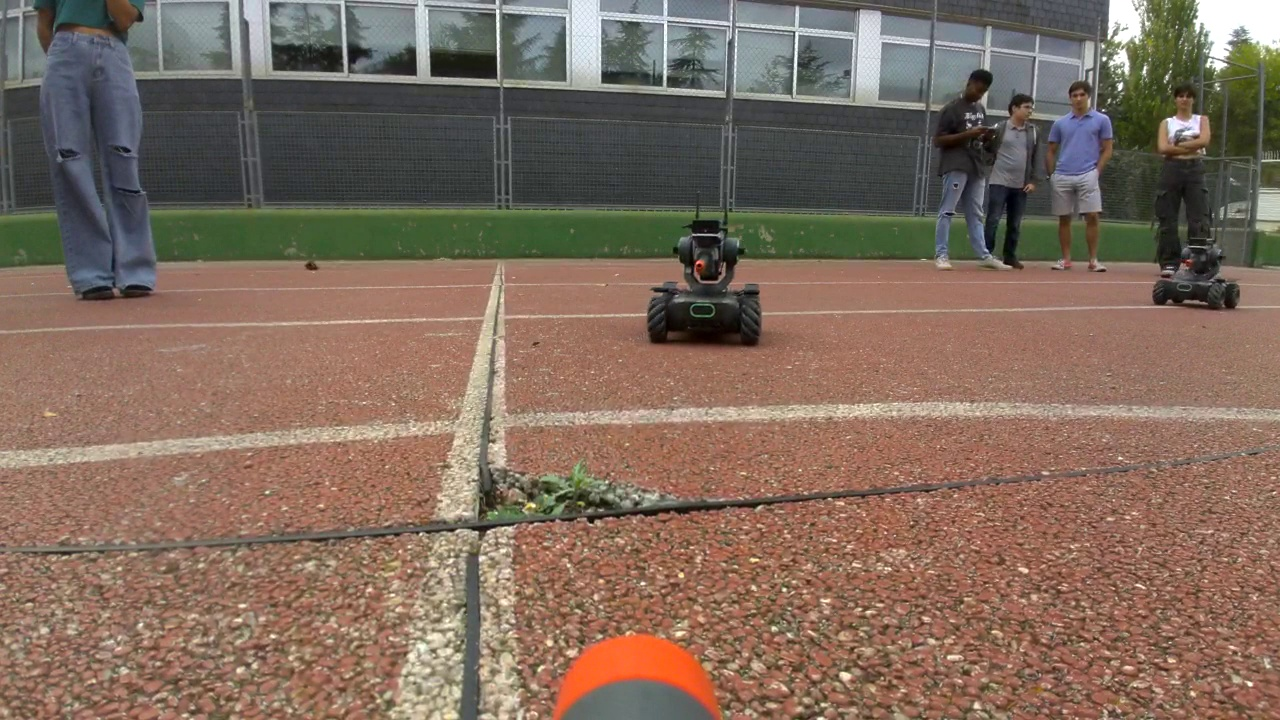robot: (649, 220, 759, 345), (1152, 238, 1239, 309)
